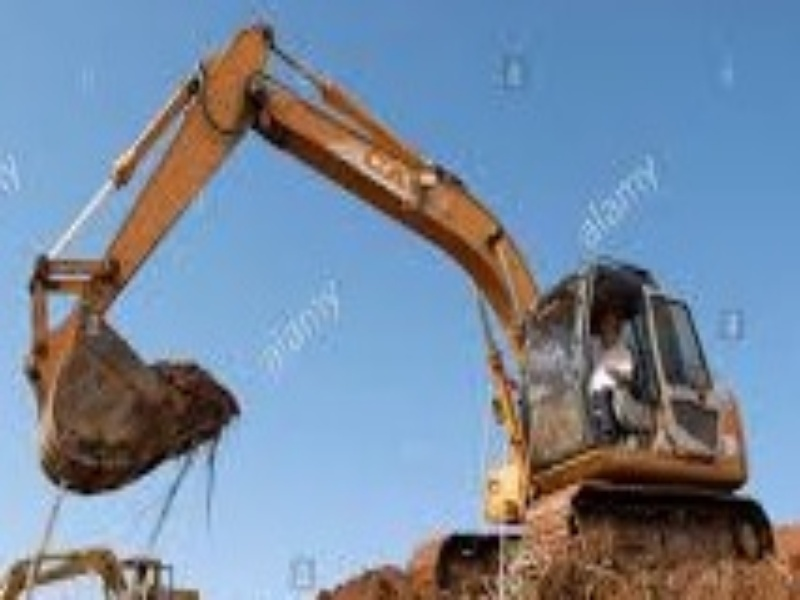wajueji: (419, 200, 791, 600)
